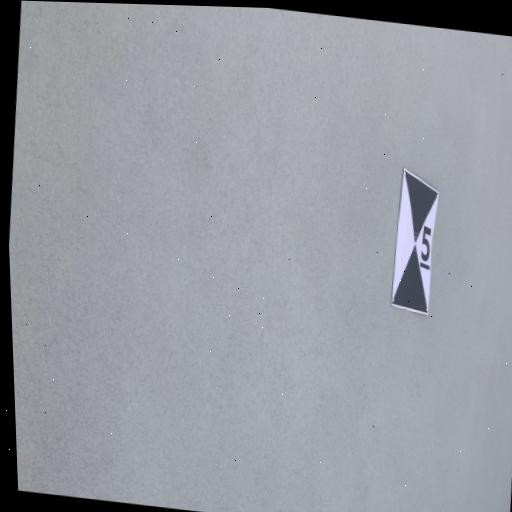target5: (390, 167, 440, 318)
